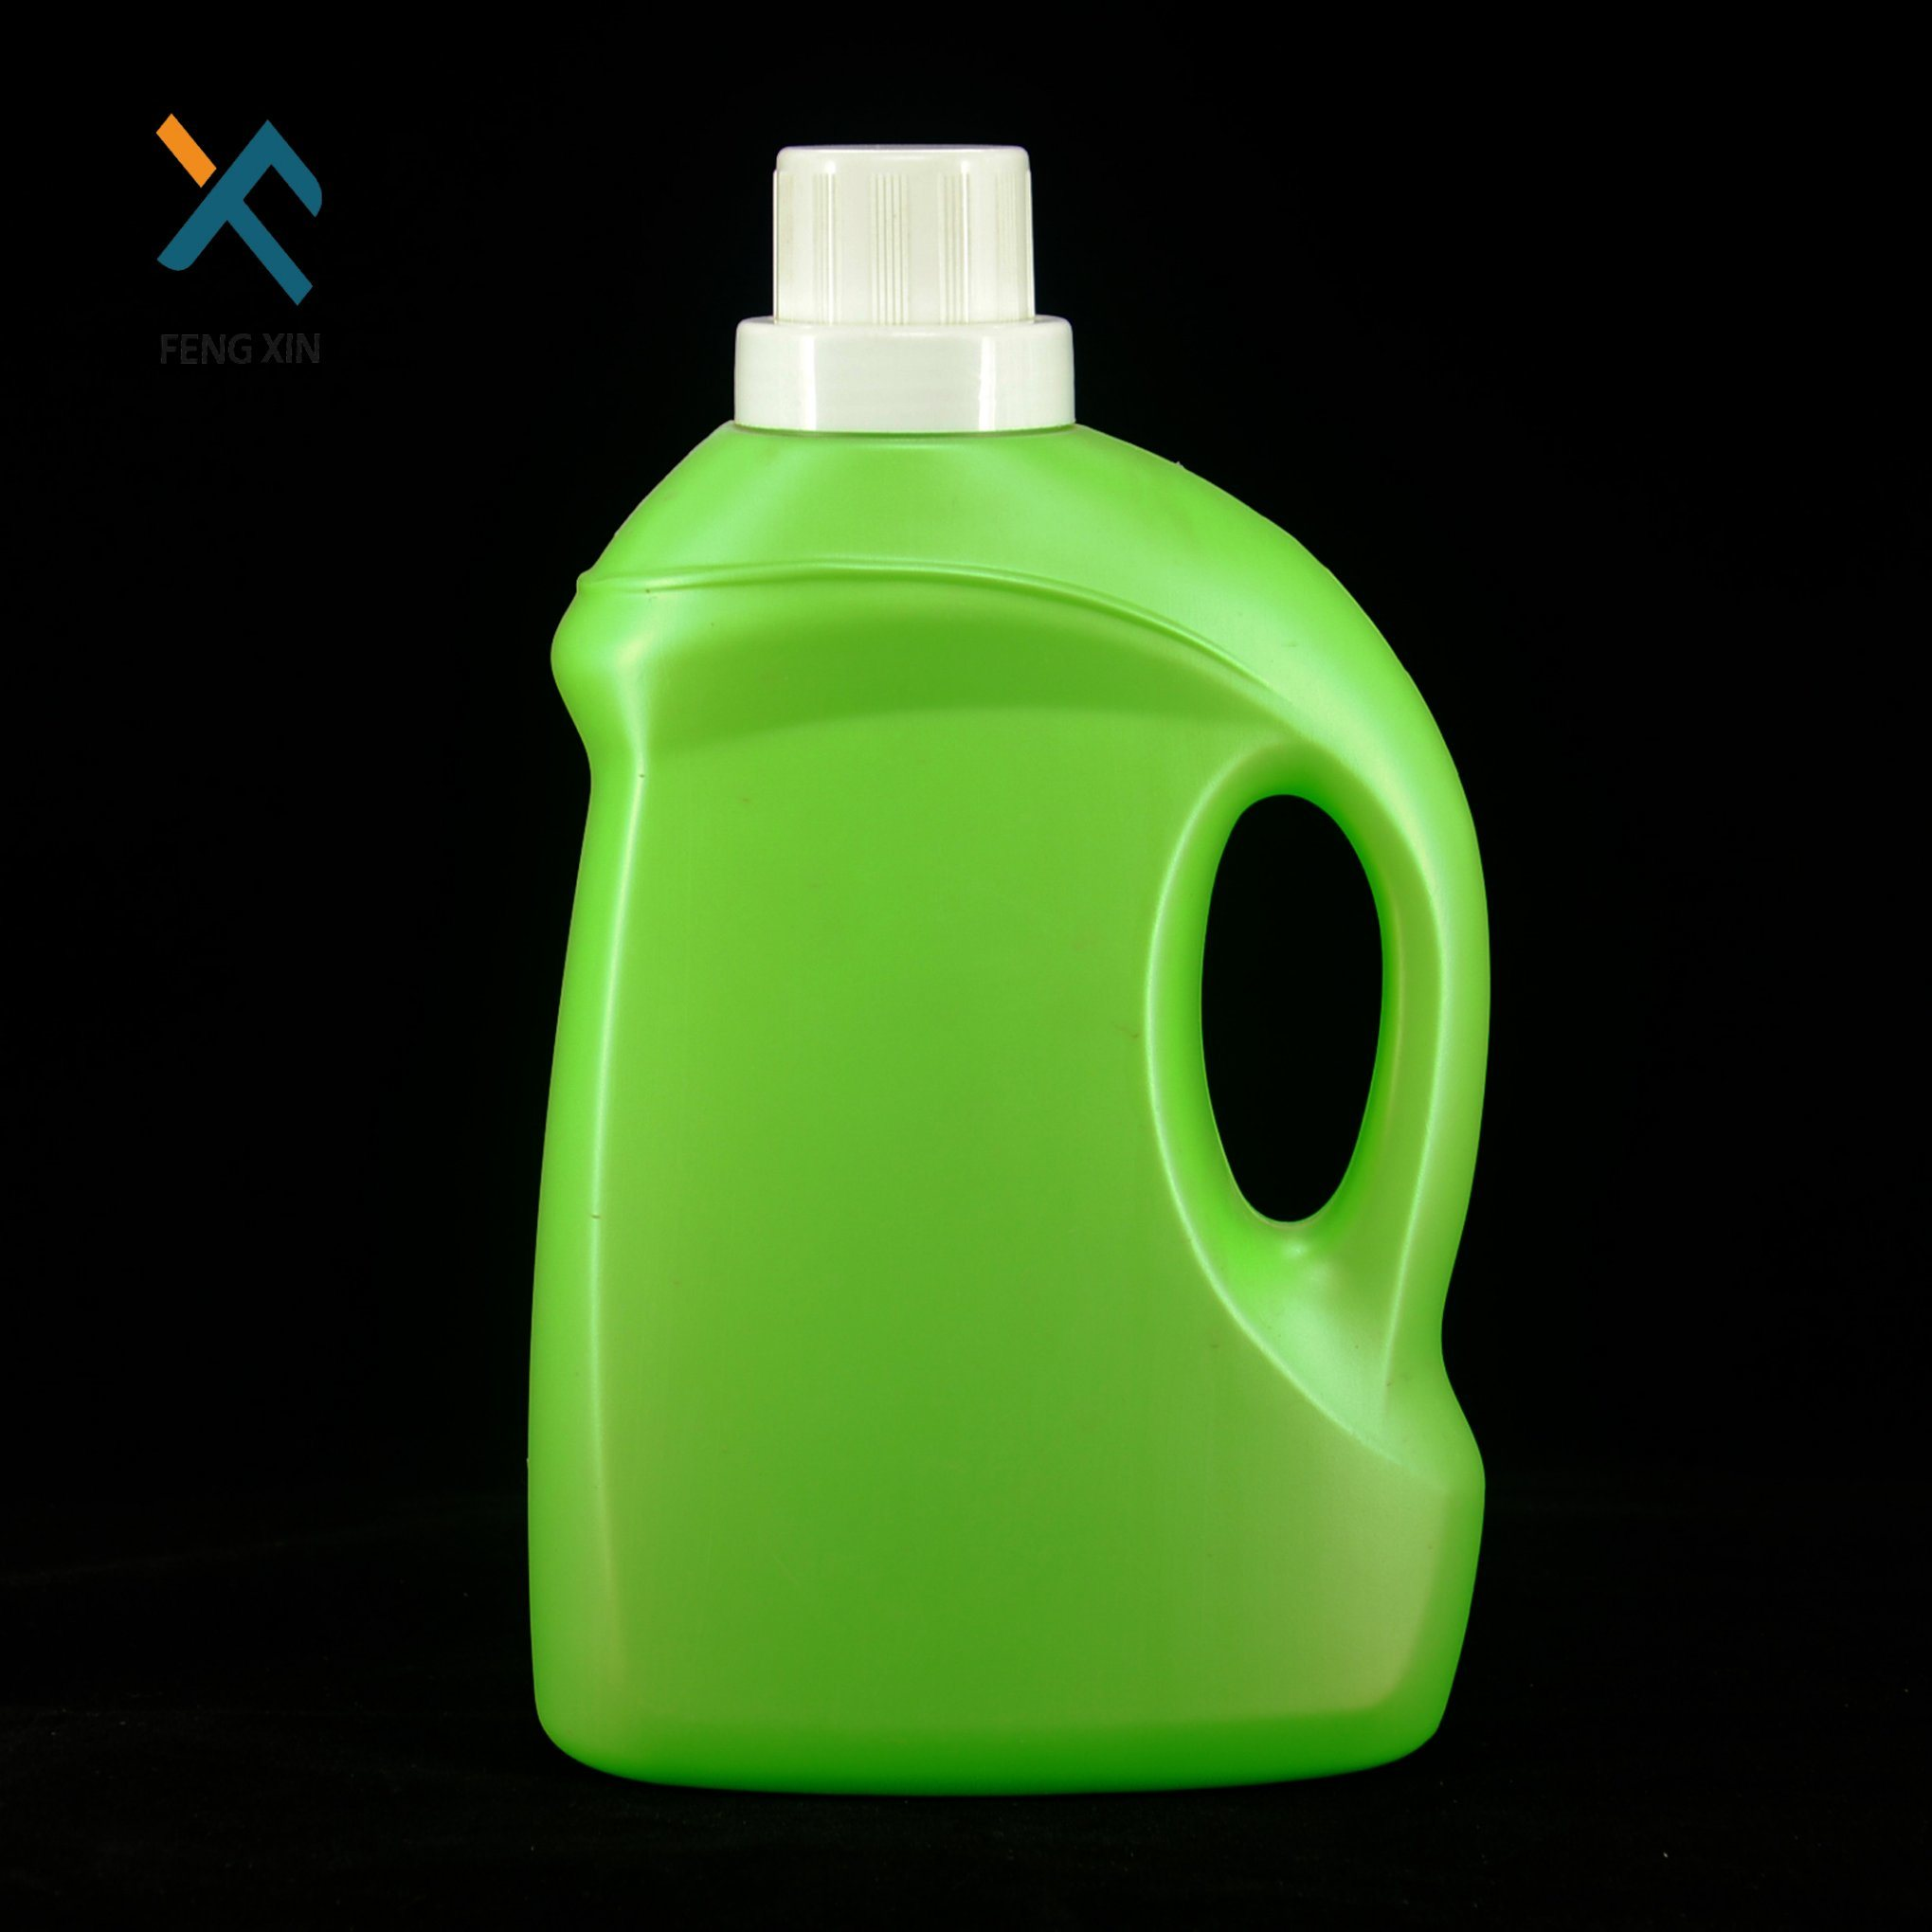plastic: (524, 131, 1497, 1805)
